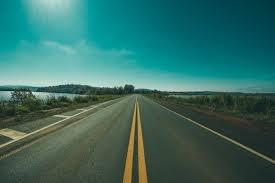road: (0, 95, 274, 182)
